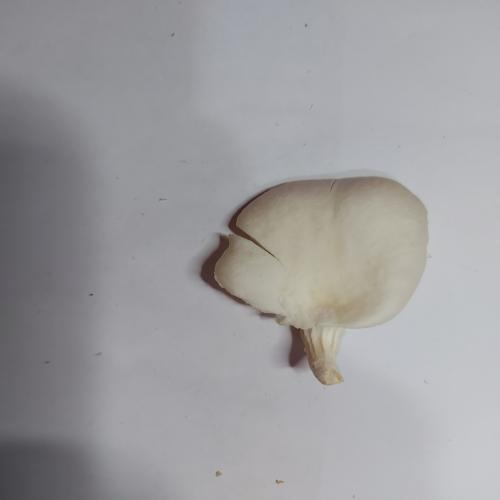Oyster Mushroom: (212, 175, 430, 386)
